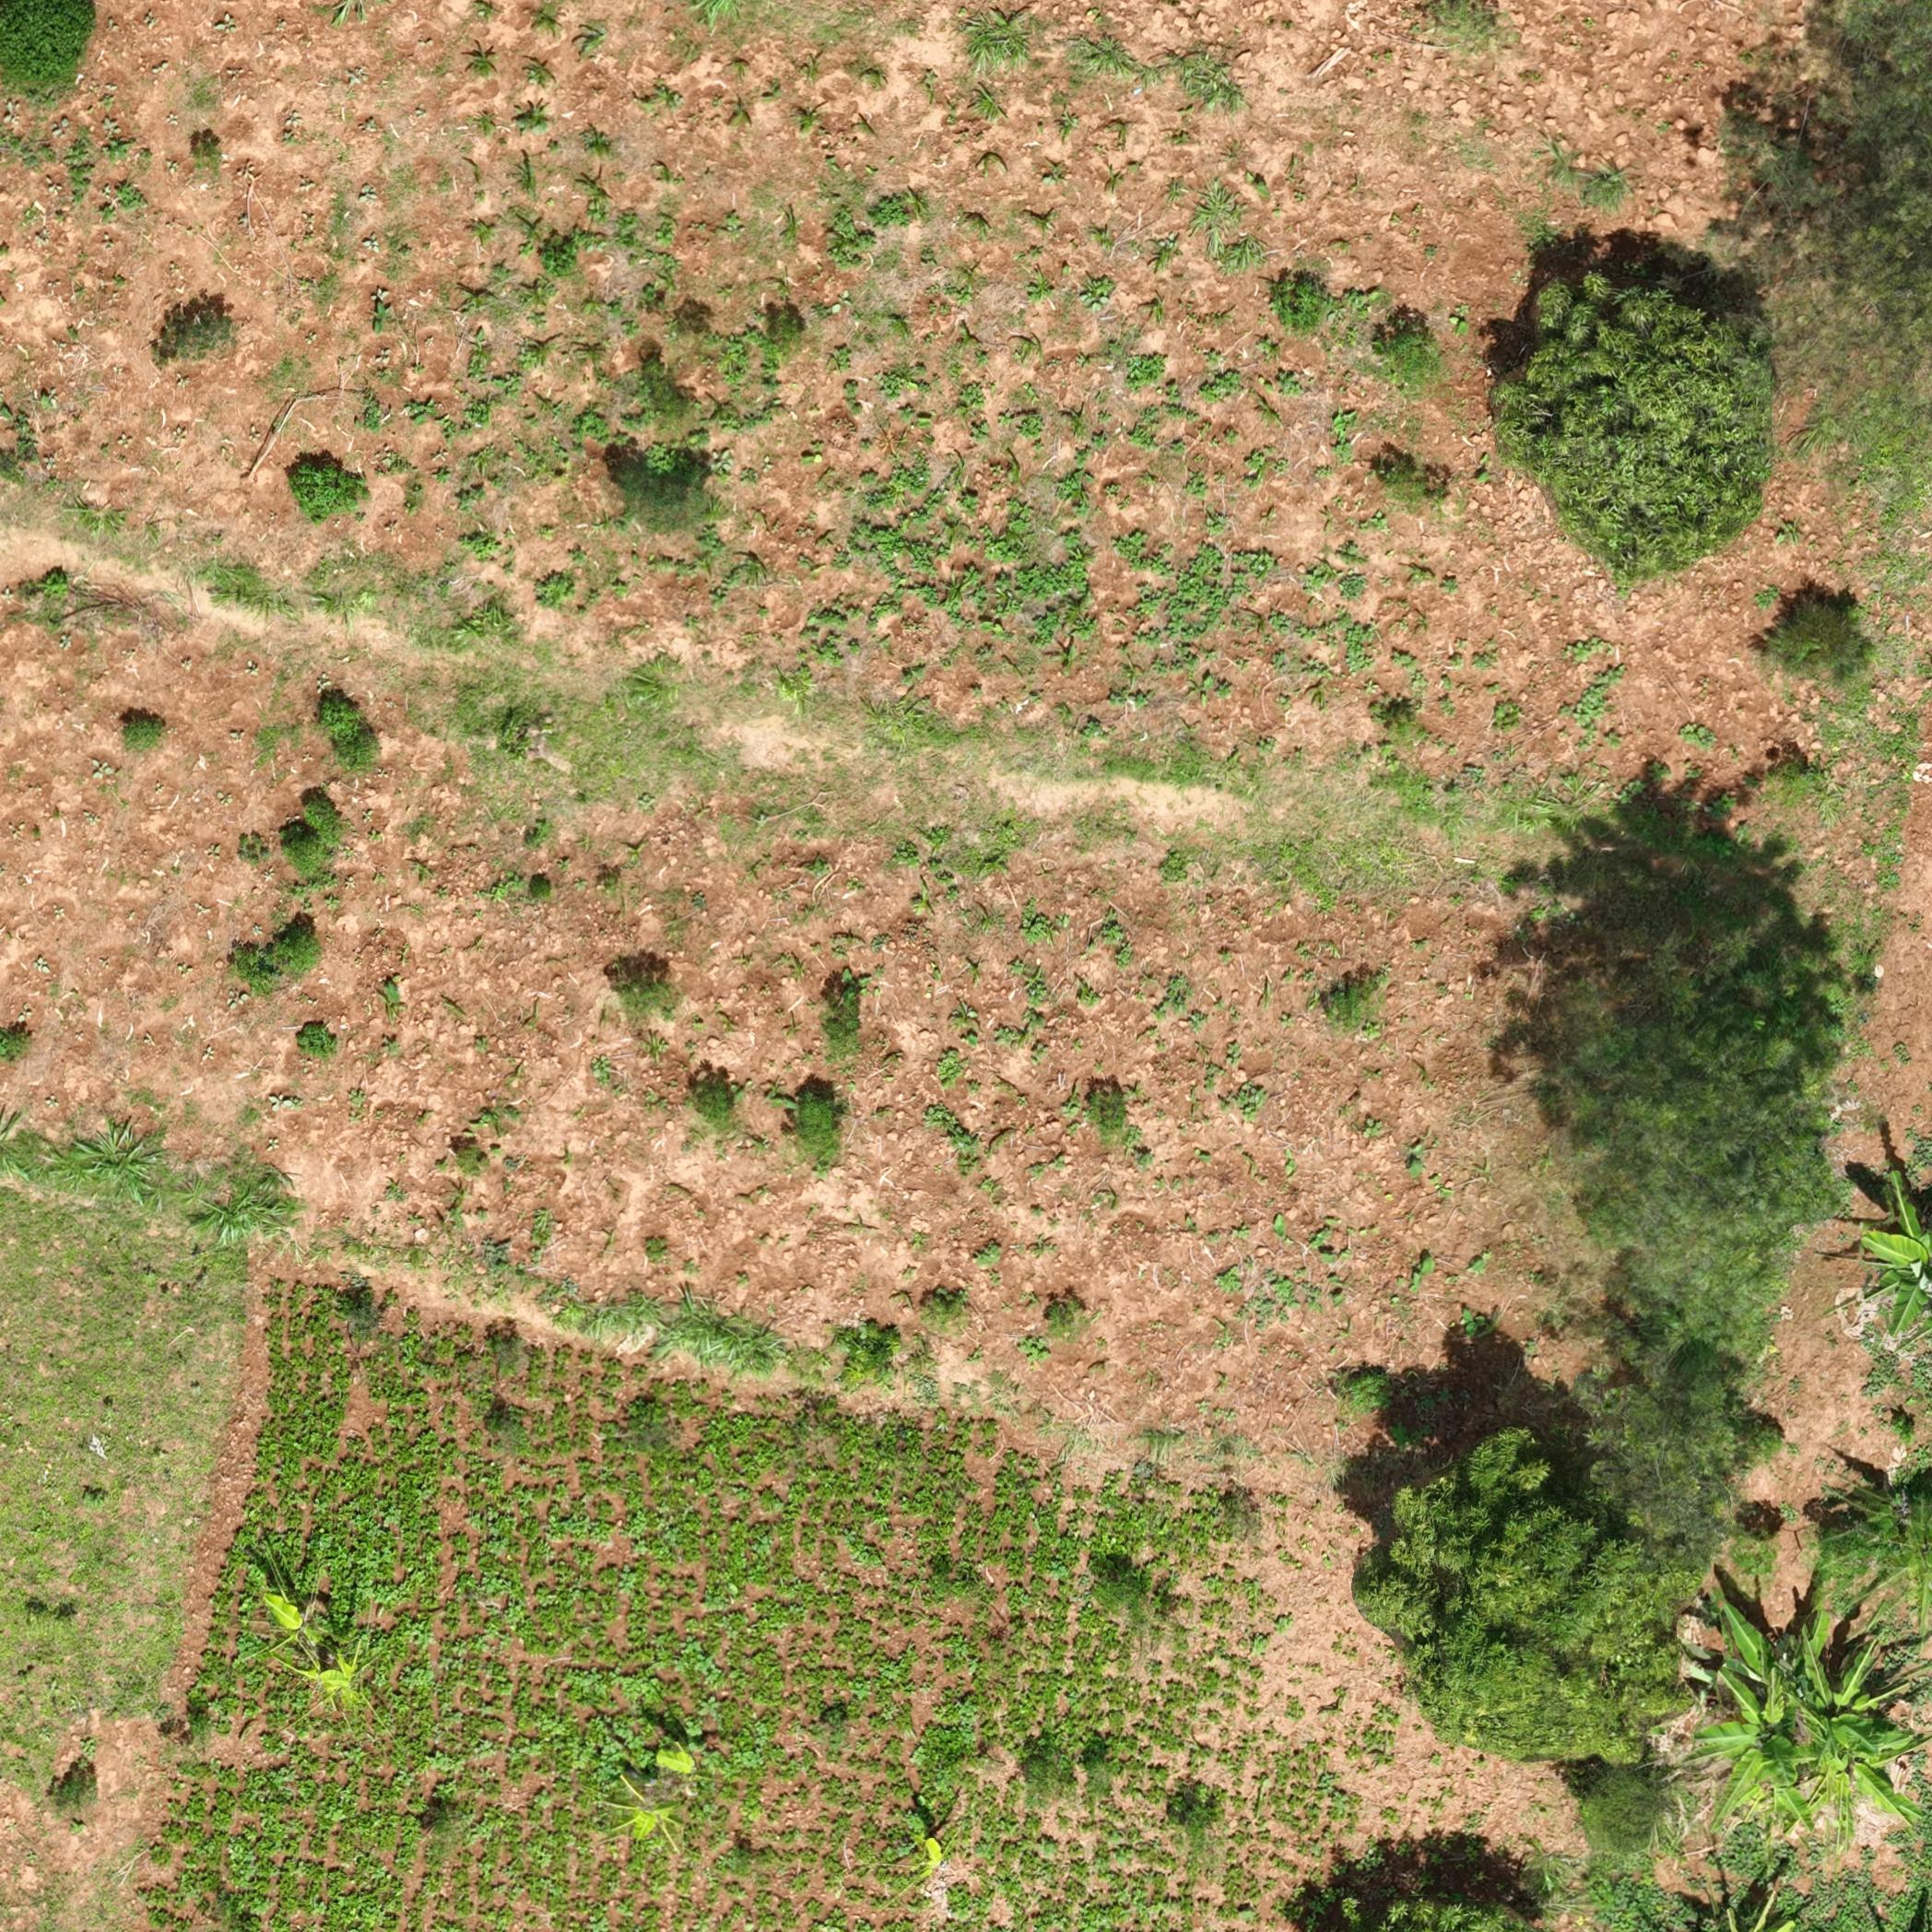Banana: (1796, 1606, 1928, 1847), (1677, 1658, 1817, 1844), (1824, 1164, 1930, 1366), (1681, 1589, 1847, 1711), (218, 1536, 336, 1698), (589, 1760, 706, 1865)
